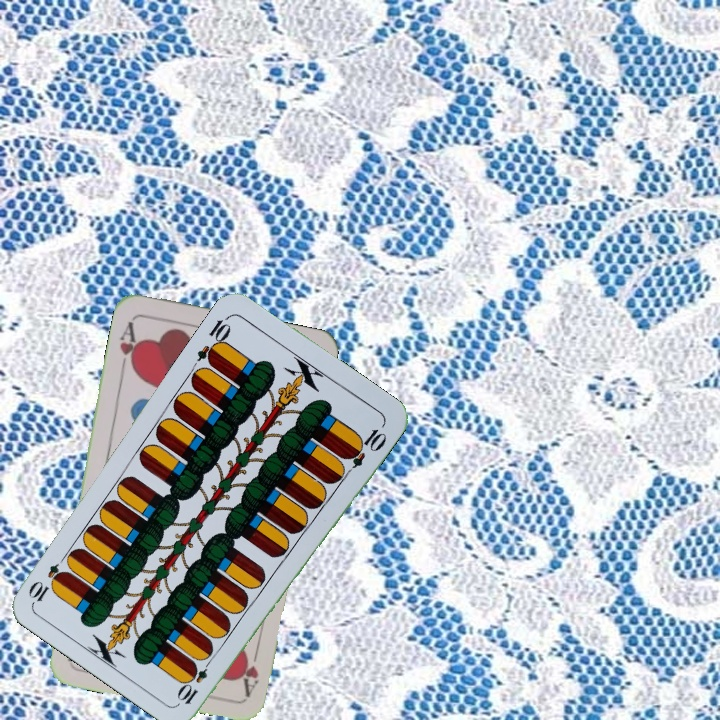E10: (174, 652, 216, 707), (193, 312, 234, 368)
HA: (235, 638, 263, 697), (115, 317, 142, 375)
